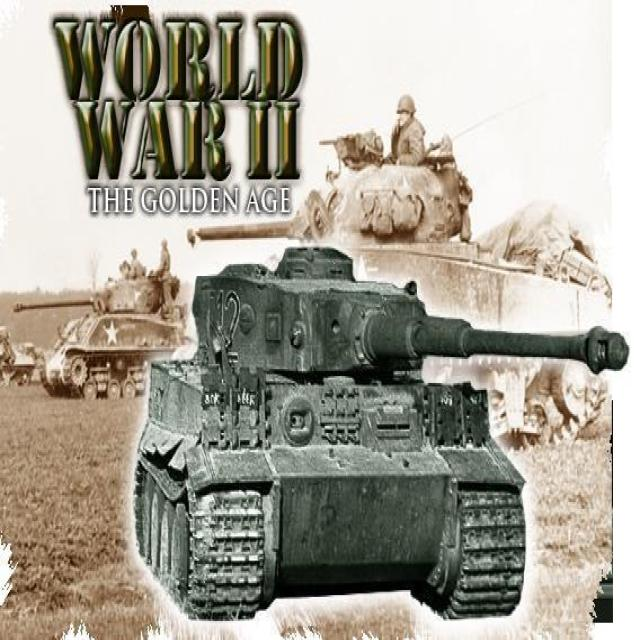Tanks: (177, 204, 538, 610), (245, 48, 572, 430), (11, 150, 231, 418)
